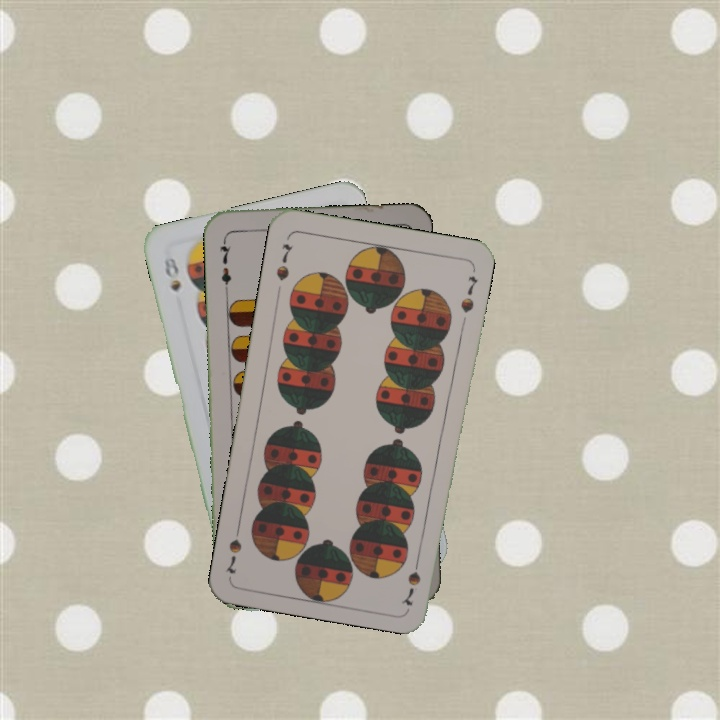E7: (215, 234, 234, 293)
S7: (272, 240, 296, 283), (404, 549, 423, 589)
S8: (160, 251, 184, 295)
